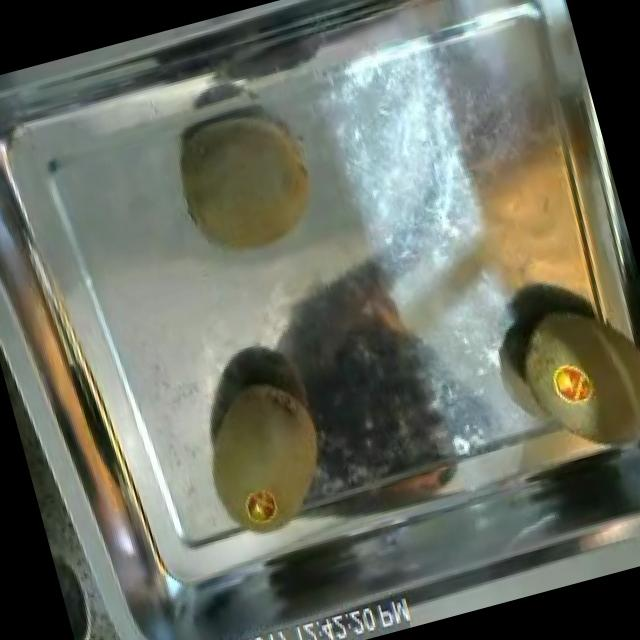Fruit: (154, 88, 338, 276), (484, 273, 640, 486), (176, 356, 350, 540)
